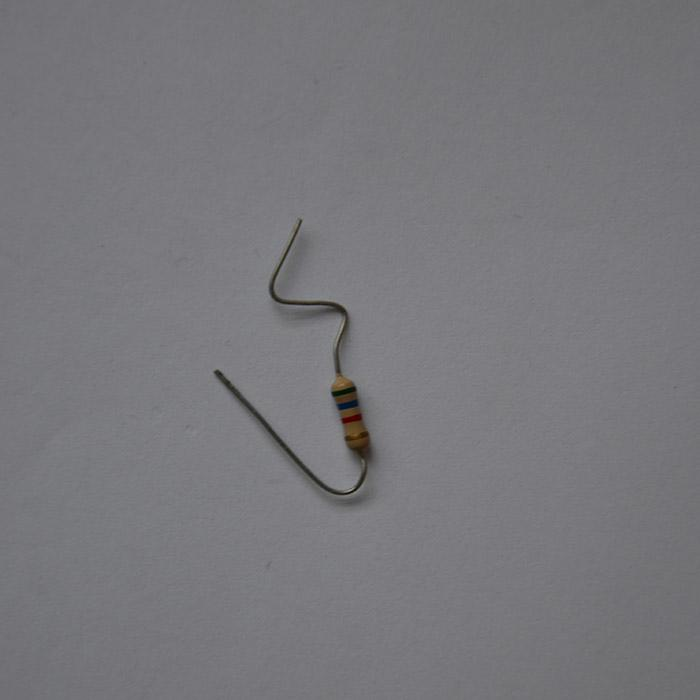resistor: (331, 372, 369, 450)
